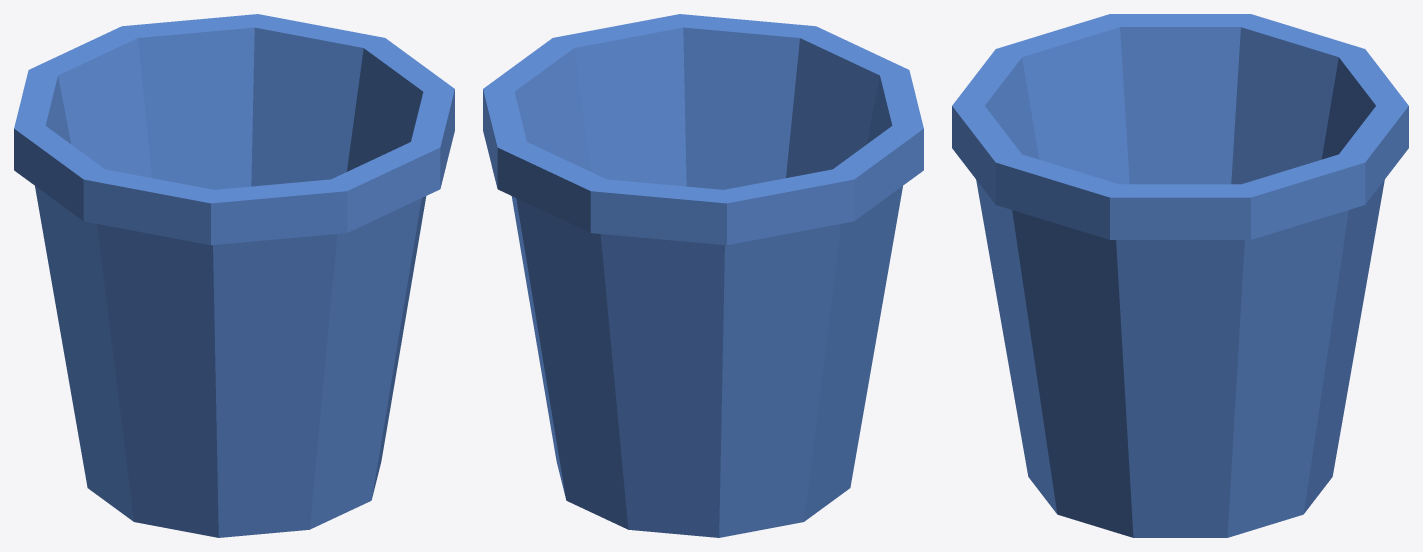
File: S.Bucket.fbx
3 renders of one model, left to right at view 1: azimuth 30°, elevation 25°; view 2: azimuth 150°, elevation 25°; view 3: azimuth 270°, elevation 25°, orthographic.
Visible parts, largest first — view 1: Bucket; view 2: Bucket; view 3: Bucket.
Boxes of the visible parts, box(x1,y1,x2,y2) form: Bucket: box(14, 14, 454, 537); Bucket: box(483, 14, 923, 537); Bucket: box(952, 14, 1408, 537).
Bounding box in the file's own units: 84.85 × 79.96 × 89.22.
